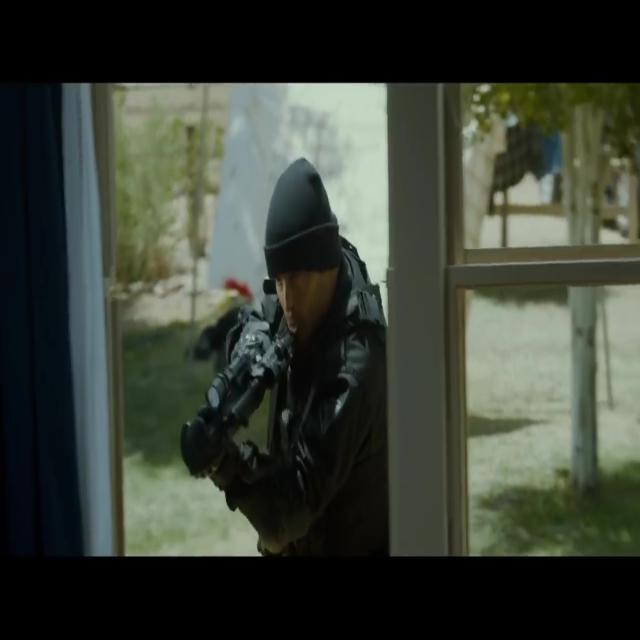Weapon: (153, 201, 347, 488)
